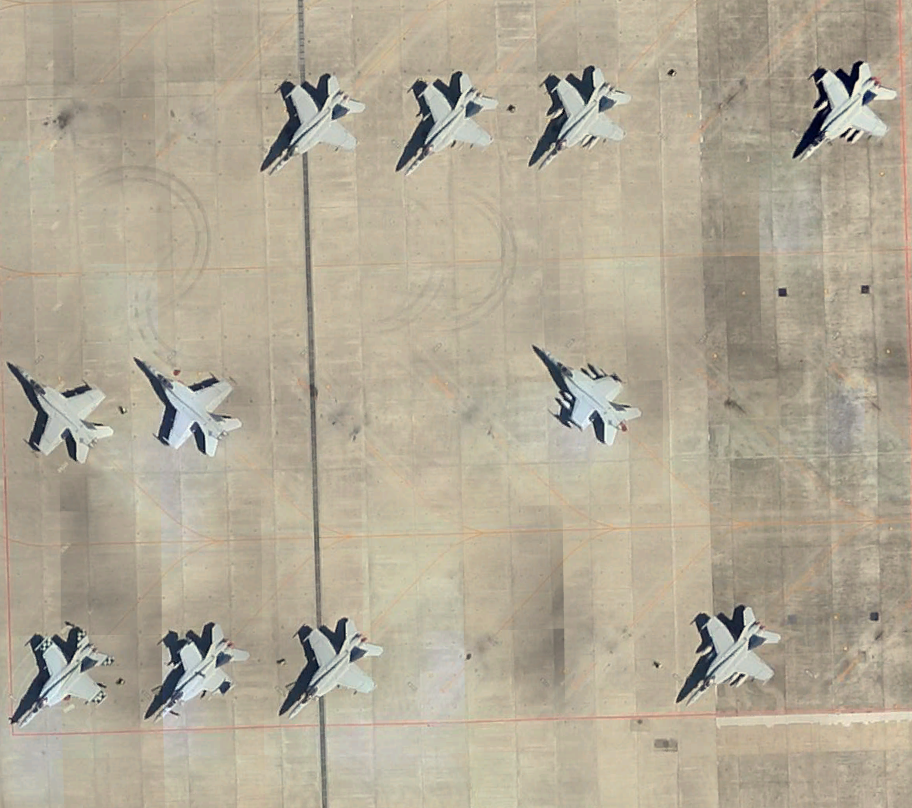A16: (533, 338, 647, 454), (128, 345, 242, 461), (254, 66, 367, 182), (392, 63, 505, 179), (524, 59, 637, 175), (790, 51, 903, 167), (1, 352, 113, 468), (14, 623, 121, 734), (139, 616, 246, 727), (279, 615, 386, 726), (676, 601, 783, 712)
